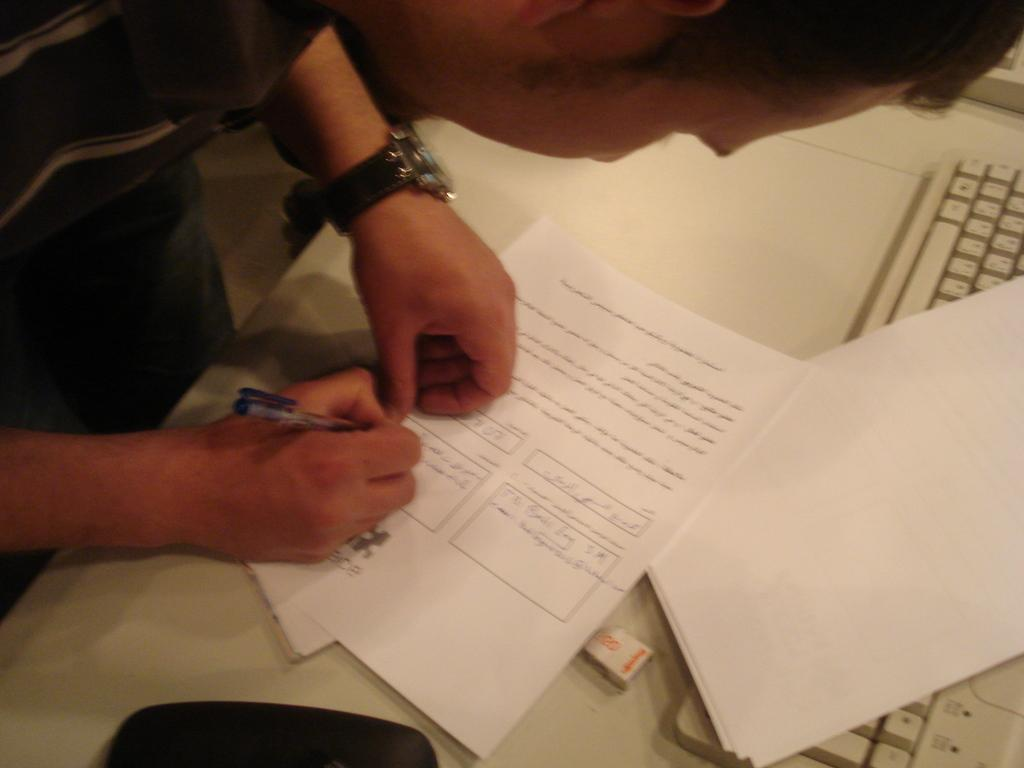pen: (237, 387, 376, 429)
